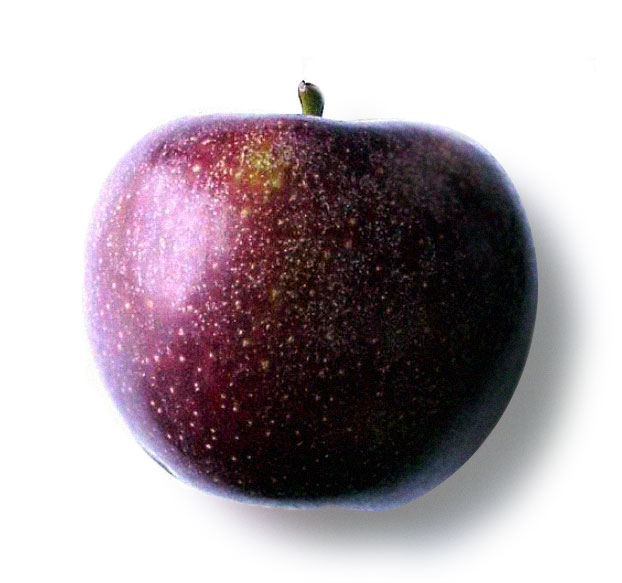Apple: (37, 73, 534, 533)
